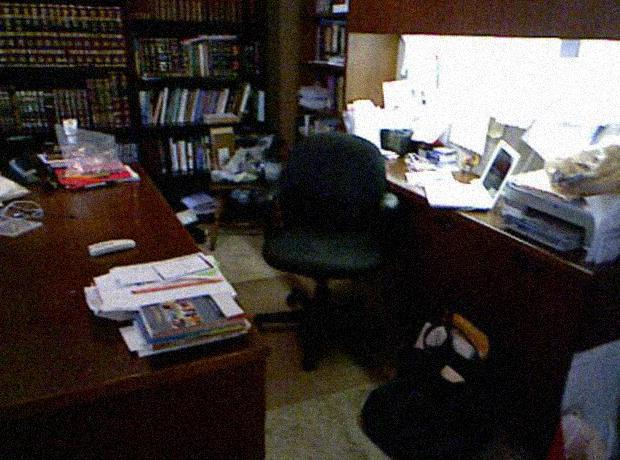Otro Obstaculo: (354, 312, 510, 457)
